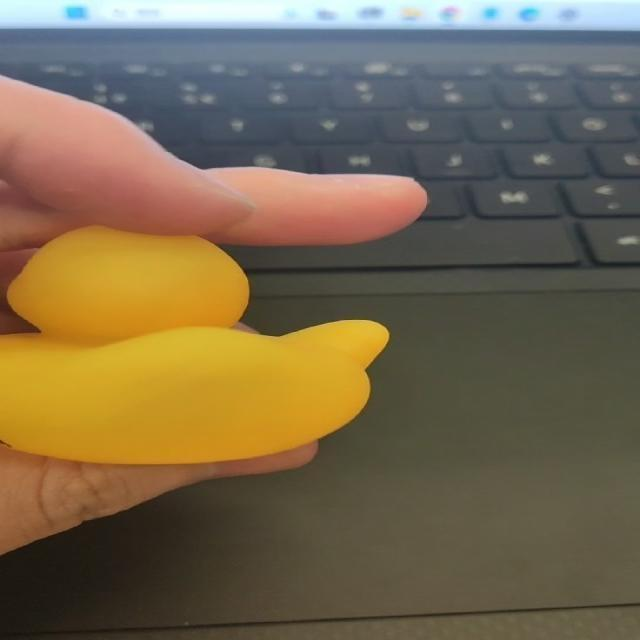rubber-duck: (0, 225, 386, 462)
